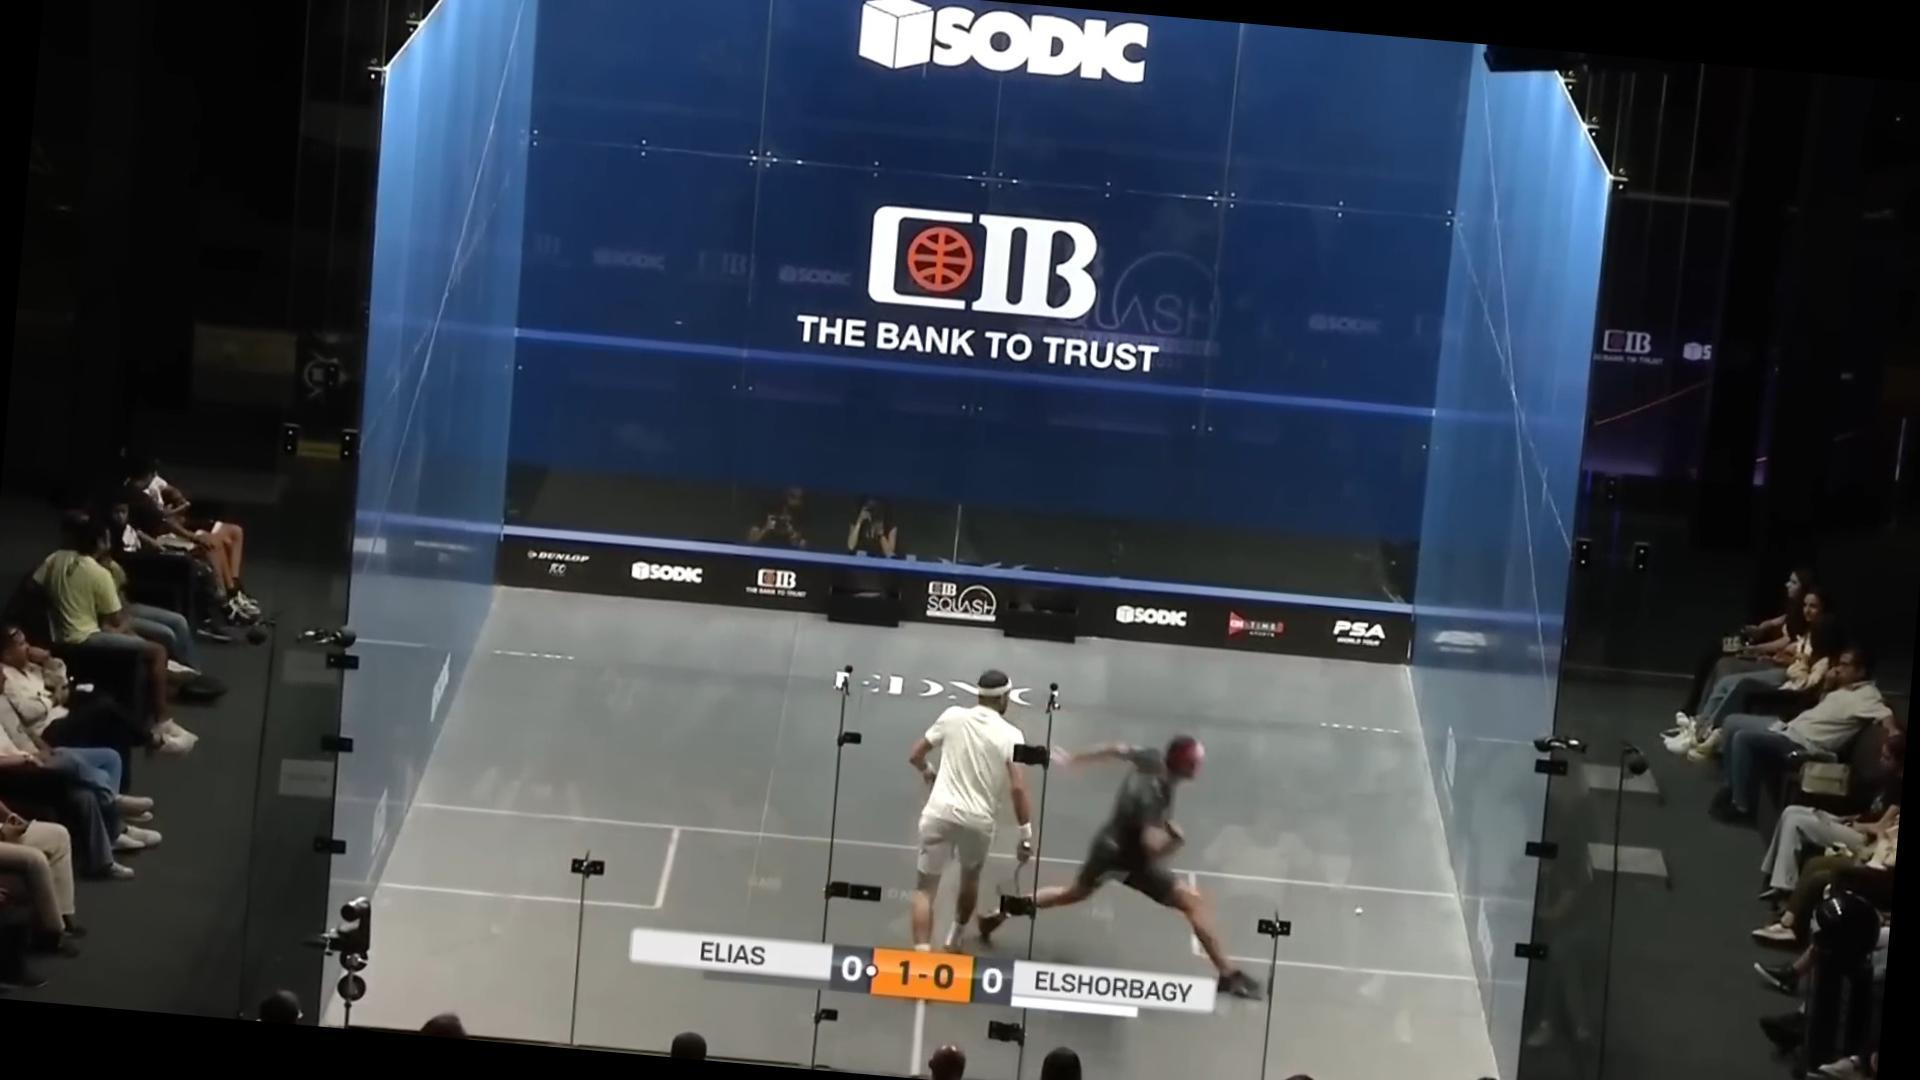Squash-Ball: (1348, 898, 1371, 926)
